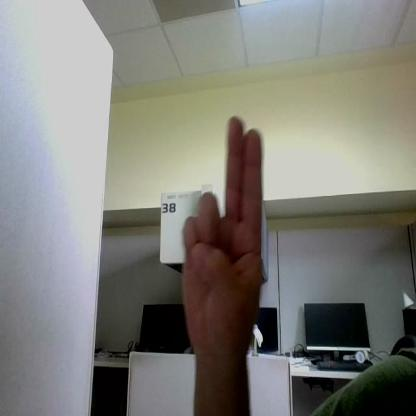U: (182, 119, 262, 351)
